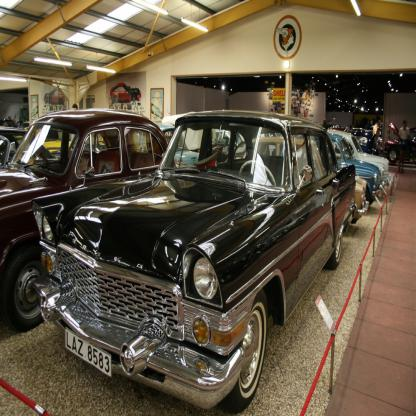Car: (0, 88, 415, 409)
